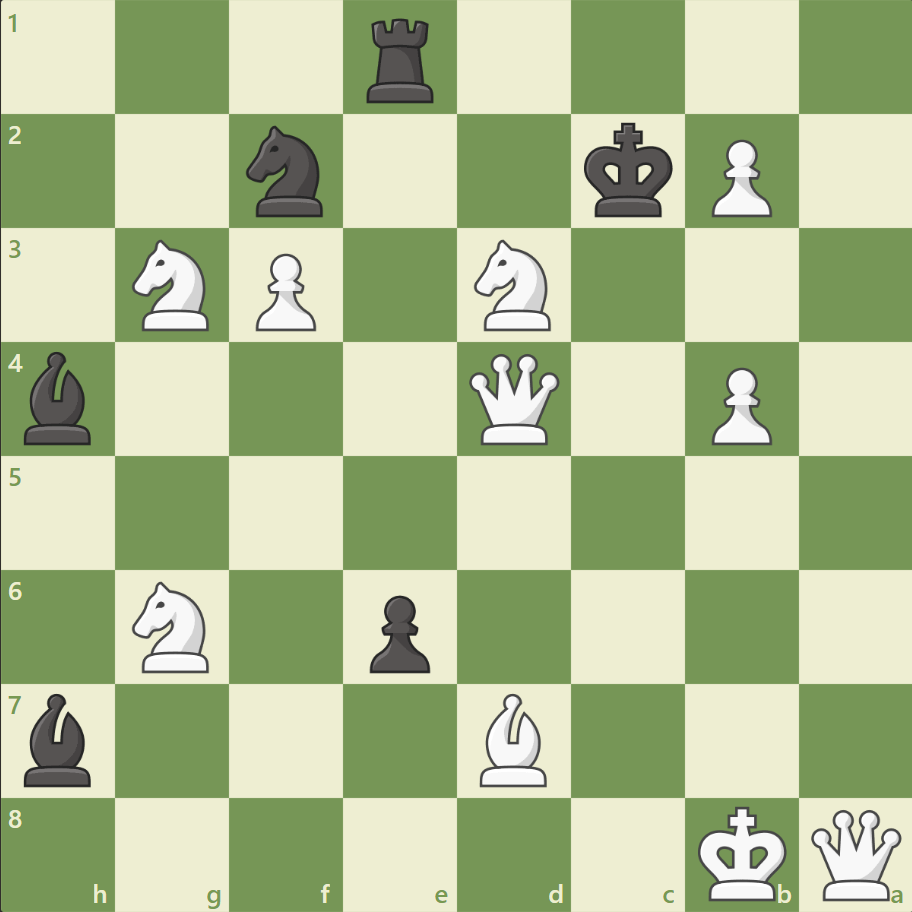B: (471, 687, 555, 790)
K: (692, 798, 792, 906)
N: (124, 234, 222, 337), (124, 575, 222, 677), (465, 234, 562, 337)
P: (701, 359, 776, 450), (247, 246, 322, 337), (701, 132, 776, 223)
Q: (464, 349, 563, 449), (805, 804, 904, 903)
b: (17, 687, 101, 790), (17, 347, 101, 449)
k: (579, 117, 679, 225)
n: (238, 121, 335, 223)
p: (361, 586, 435, 677)
r: (360, 12, 442, 109)
